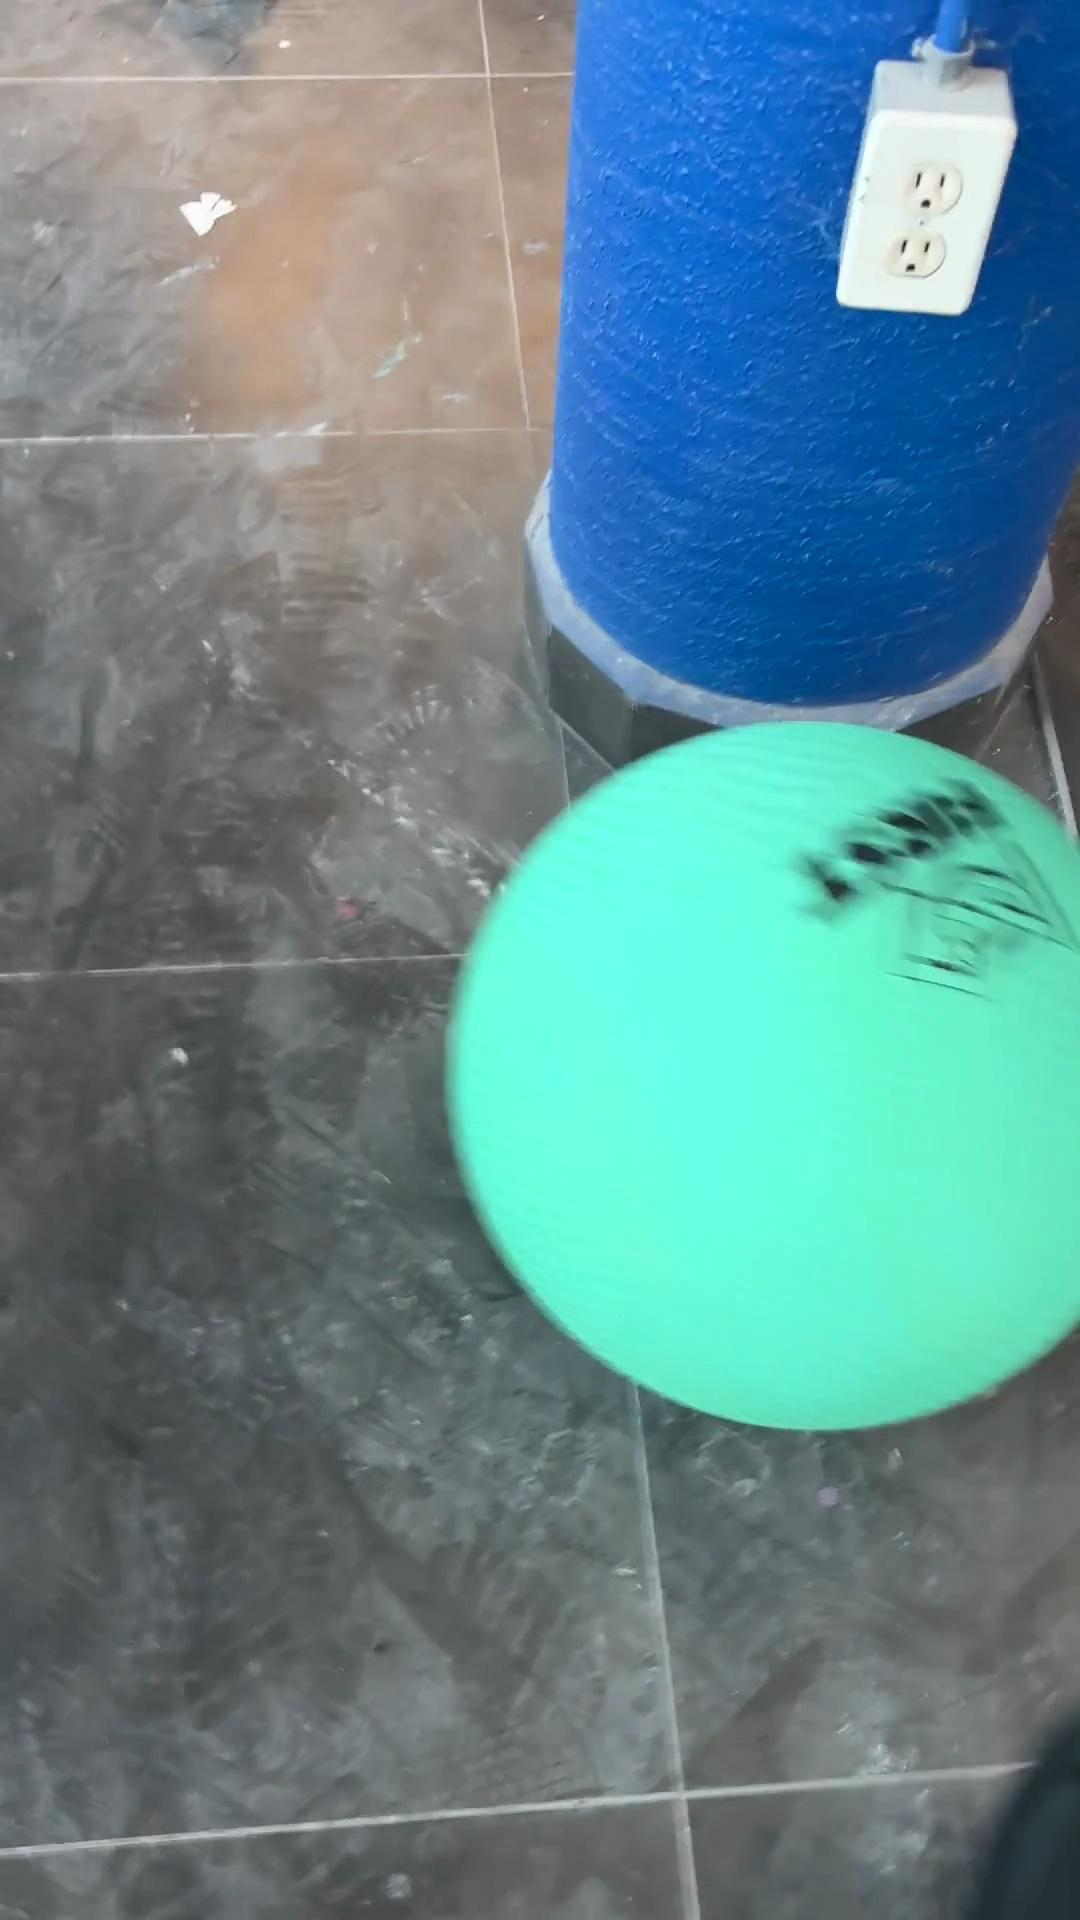ALGAE: (440, 716, 1077, 1433)
